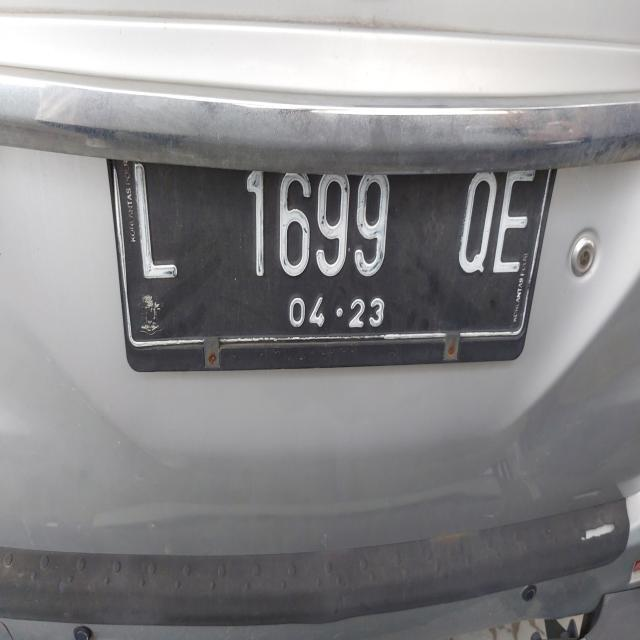1: (229, 148, 274, 294)
6: (270, 152, 318, 282)
9: (349, 155, 396, 282), (312, 157, 356, 282)
E: (488, 147, 538, 296)
L: (120, 133, 190, 304)
Q: (452, 152, 496, 294)
